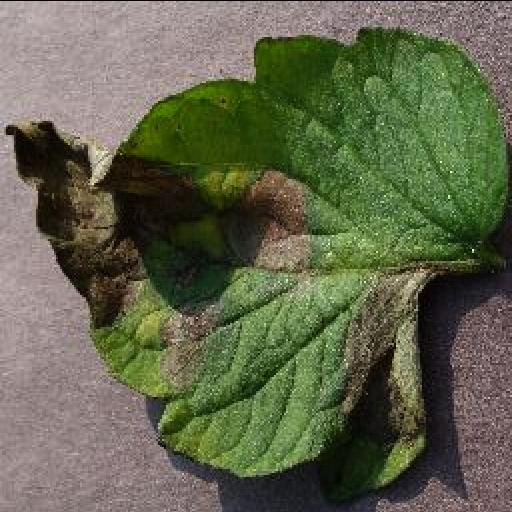disease_tomato: (2, 24, 512, 502)
